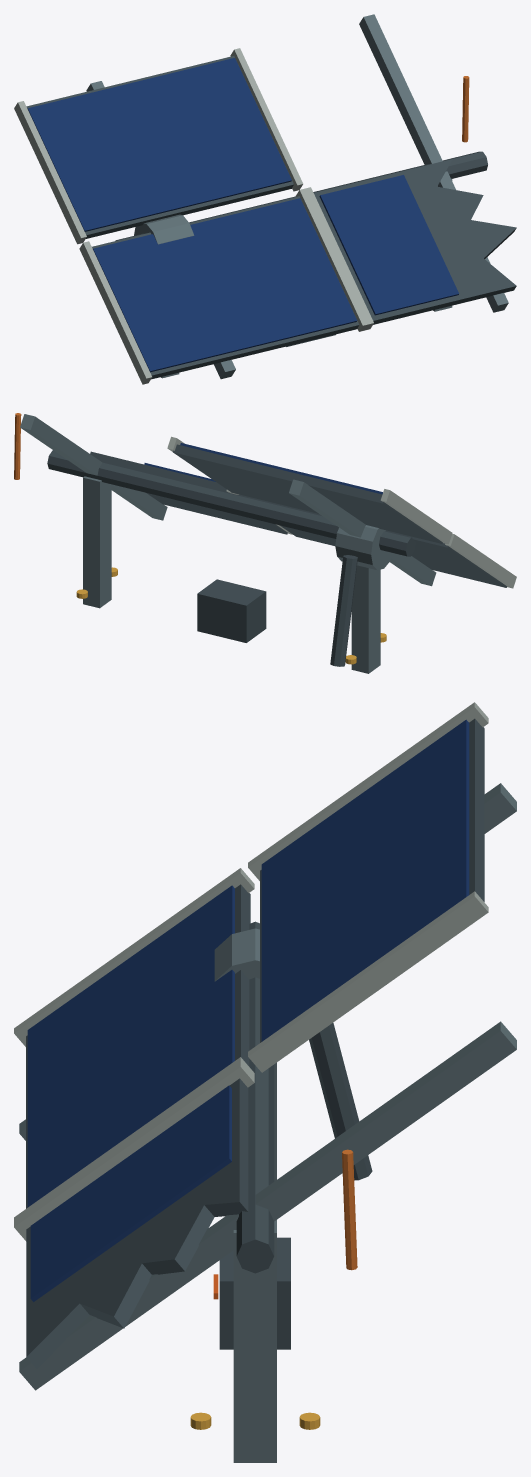
File: solar_panel_rack_d2.glb
3 views of the same model, one above another, from view 1: azimuth 30°, elevation 25°; view 2: azimuth 150°, elevation 25°; view 3: azimuth 270°, elevation 25° (orthographic). The views are drawn at different scales.
Parts seen in each view (by area): view 1: SOLAR_GAME_MESH_001, SOLAR_GAME_MESH; view 2: SOLAR_GAME_MESH, SOLAR_GAME_MESH_001; view 3: SOLAR_GAME_MESH_001, SOLAR_GAME_MESH.
Part boxes in pixels (x1,y1,x2,y2): SOLAR_GAME_MESH_001: (14, 14, 516, 384); SOLAR_GAME_MESH: (115, 151, 487, 378); SOLAR_GAME_MESH: (47, 450, 415, 673); SOLAR_GAME_MESH_001: (14, 413, 516, 588); SOLAR_GAME_MESH_001: (14, 702, 516, 1390); SOLAR_GAME_MESH: (190, 921, 372, 1462).
Bounding box in the file's own units: 4.57 × 2.58 × 2.68.
